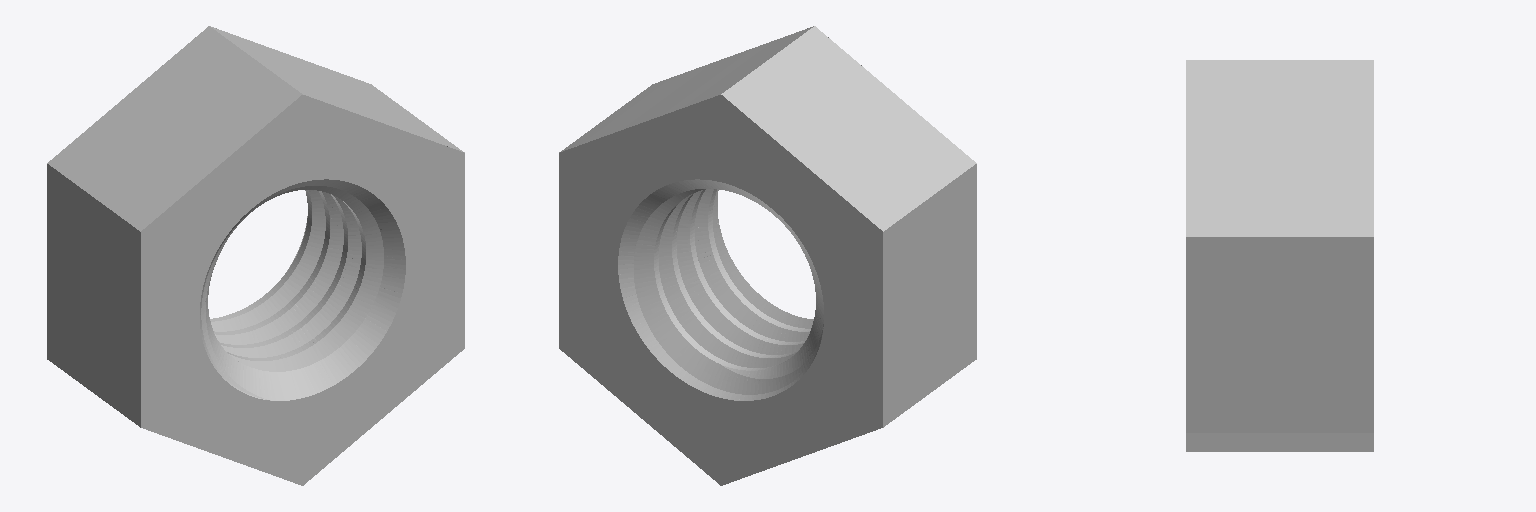
The model's file is factory_nut_m8_tight_subdiv_3x.obj.
3 renders of one model, left to right at view 1: azimuth 30°, elevation 25°; view 2: azimuth 150°, elevation 25°; view 3: azimuth 270°, elevation 25°, orthographic.
Parts seen in each view (by area): view 1: mesh5, mesh9, mesh10, mesh1, mesh3, mesh8, mesh2; view 2: mesh6, mesh9, mesh10, mesh0, mesh4, mesh8, mesh2; view 3: mesh7, mesh8, mesh12.
Boxes of the visible parts, <box> form: mesh5: <box>141,95,464,485</box>; mesh9: <box>47,26,302,231</box>; mesh10: <box>47,164,140,427</box>; mesh1: <box>201,186,383,400</box>; mesh3: <box>200,179,405,400</box>; mesh8: <box>210,26,464,152</box>; mesh2: <box>210,190,365,361</box>; mesh6: <box>559,95,882,485</box>; mesh9: <box>721,26,976,231</box>; mesh10: <box>883,164,976,427</box>; mesh0: <box>634,189,823,394</box>; mesh4: <box>618,179,823,400</box>; mesh8: <box>559,26,813,152</box>; mesh2: <box>654,189,810,370</box>; mesh7: <box>1186,237,1373,432</box>; mesh8: <box>1186,60,1373,236</box>; mesh12: <box>1186,433,1373,451</box>.
Size of the model in its own units: 0.013 by 0.015 by 0.0065.